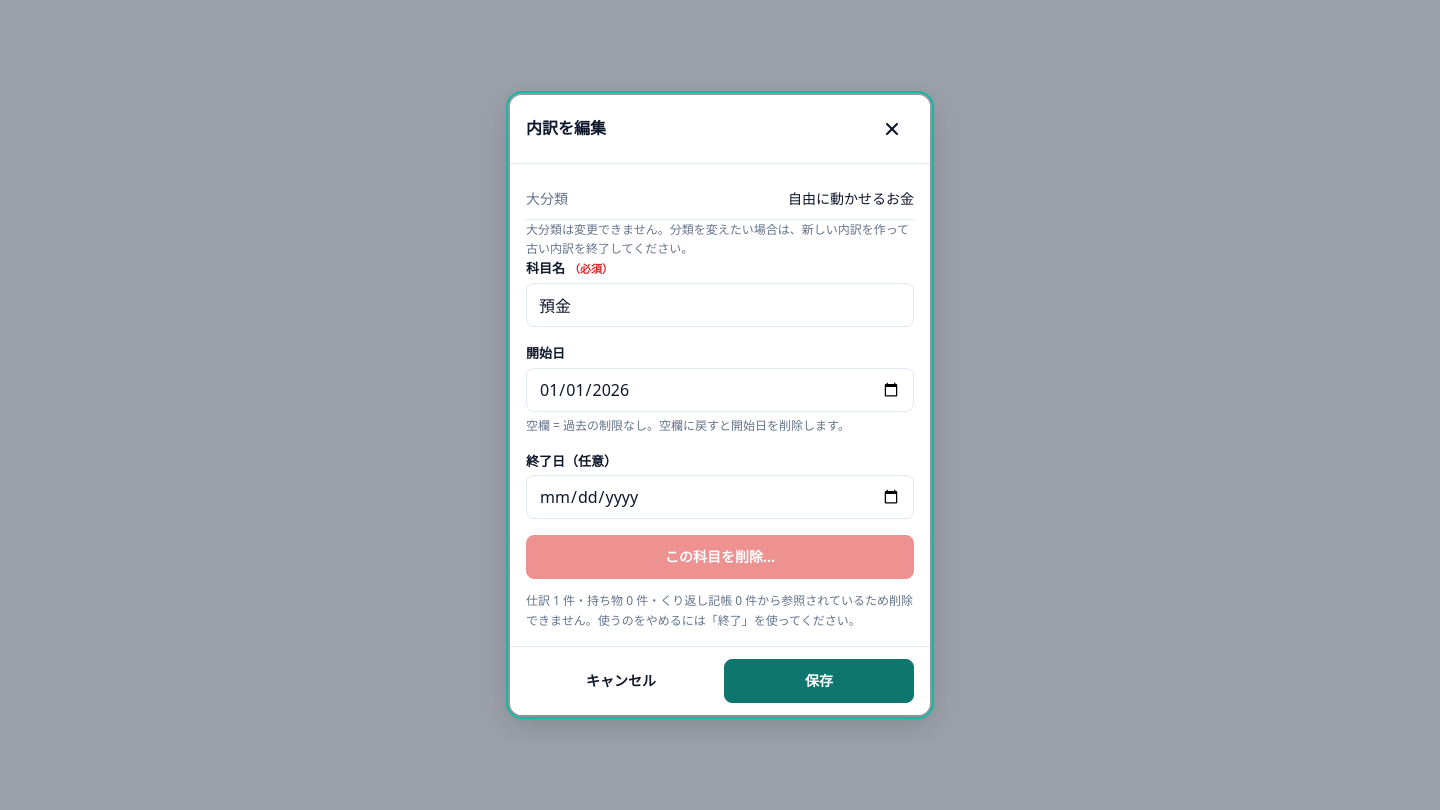
科目編集シートの存在期間 › 初出仕訳より後へ開始点を縮める保存は拒否する
Type "2026-06-16" into the date field labelled "開始日" at (720, 390), box 526,368 -> 914,412
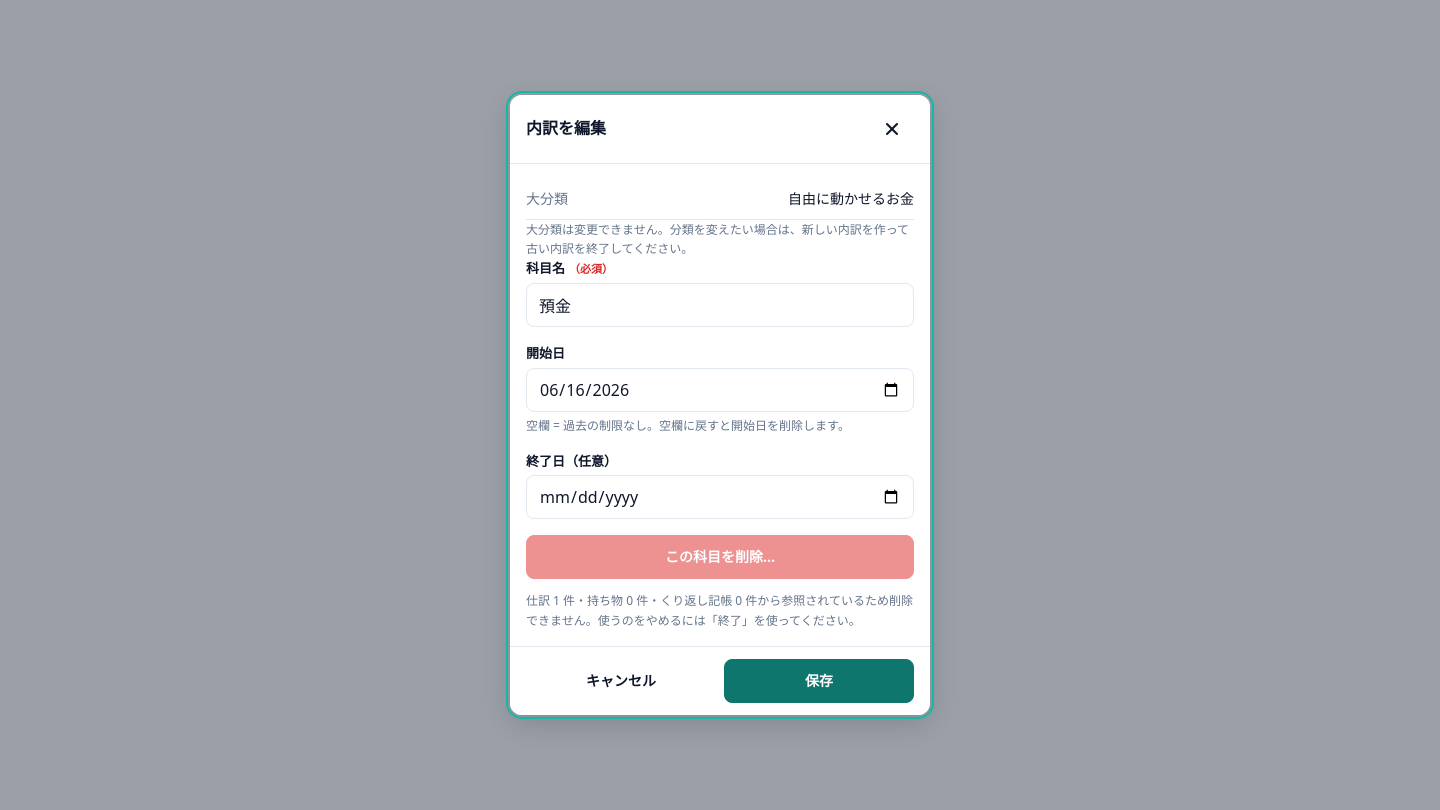
Click the button "保存" at (819, 681), box 724,659 -> 914,703
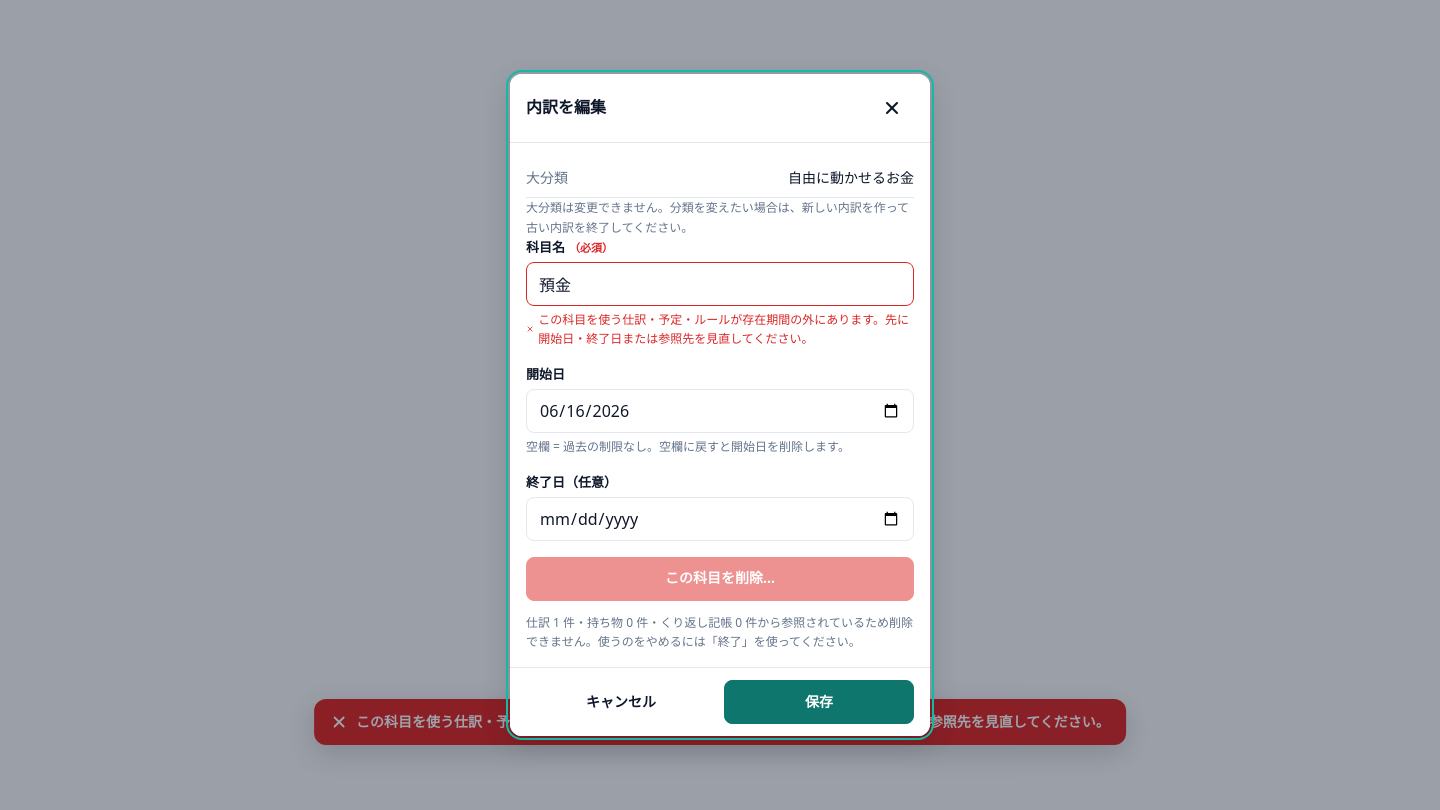
Expected: the message "この科目を使う仕訳・予定・ルールが存在期間の外にあります。先に開始日・終了日または参照先を見直してください。" below "科目名" is shown, 538,310 -> 909,347
